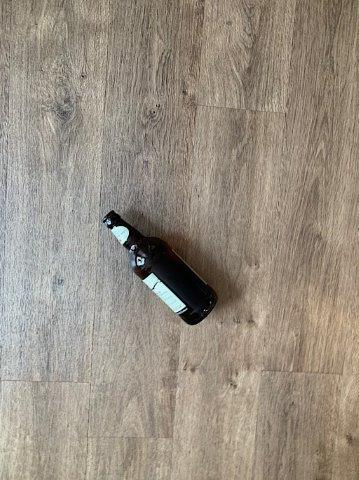botolkaca: (102, 210, 216, 325)
